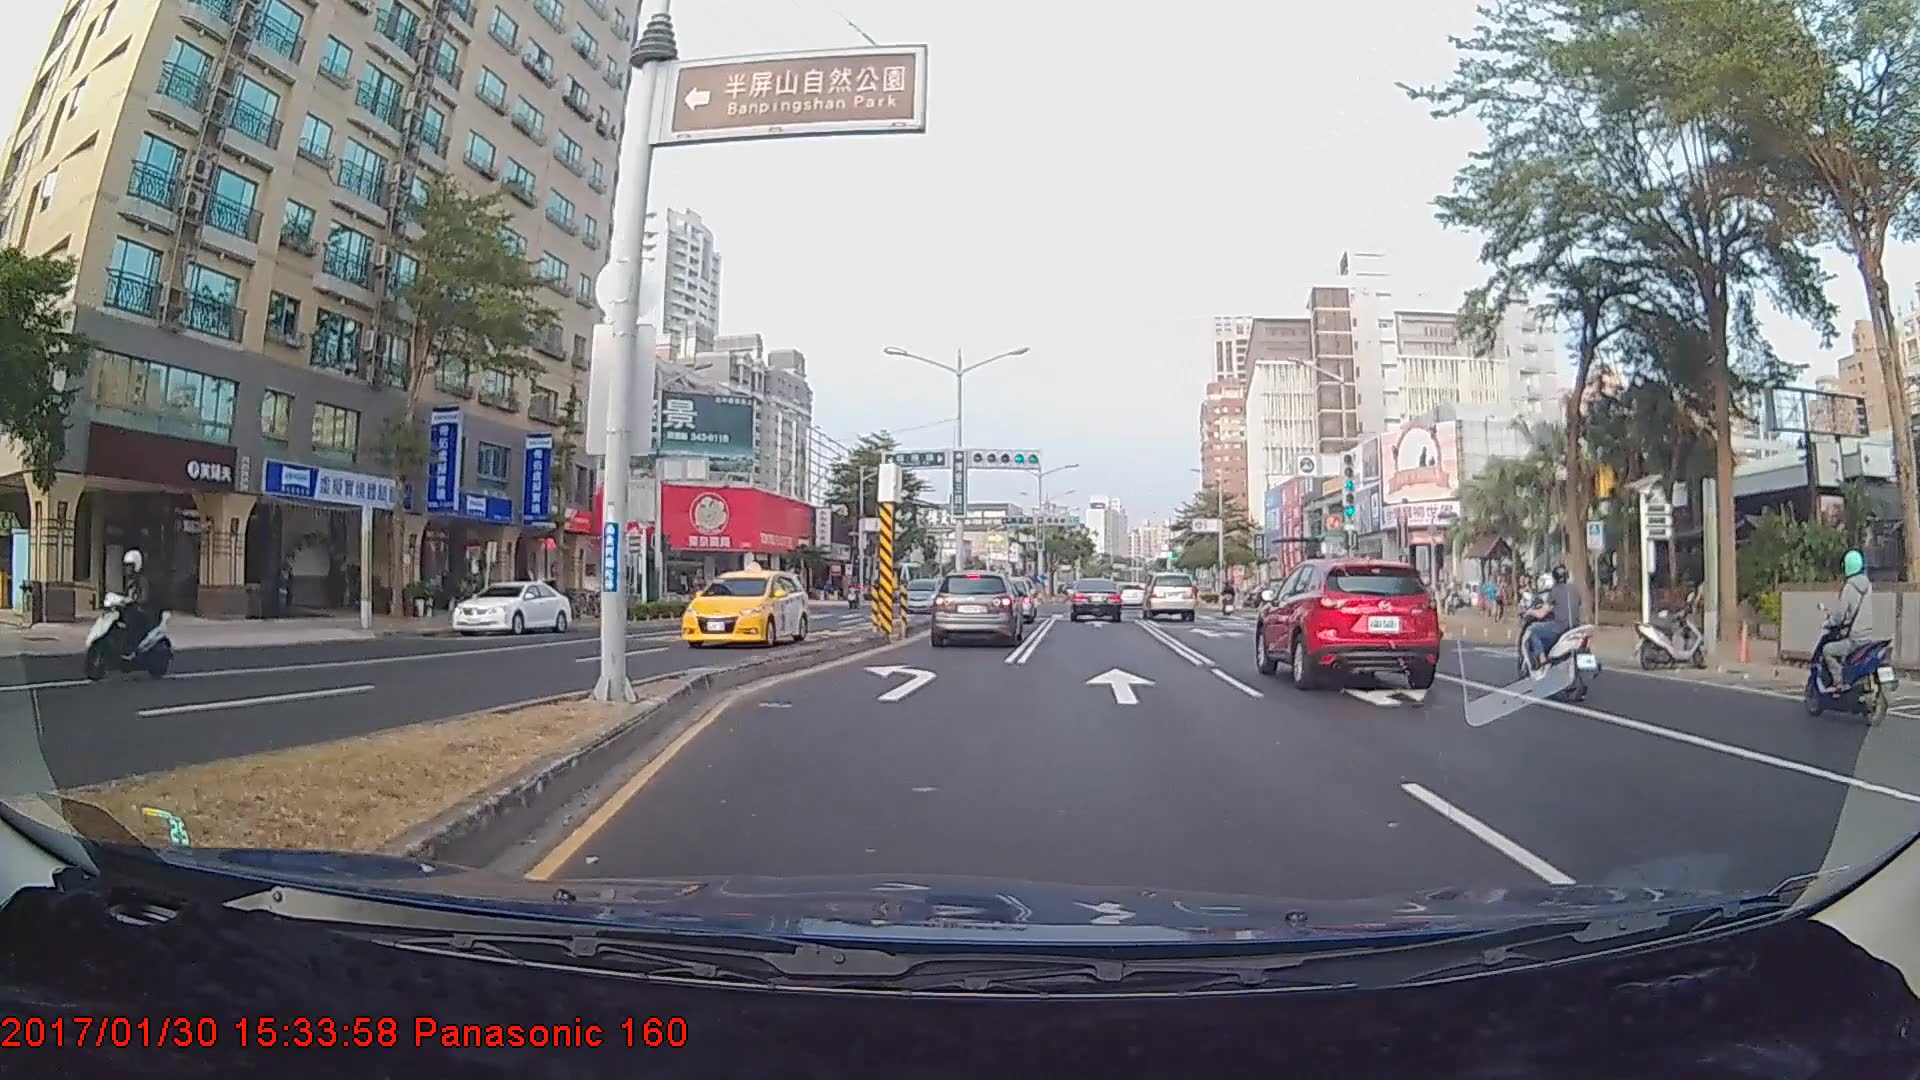rider: (1800, 549, 1904, 734), (81, 551, 179, 687), (1513, 563, 1605, 705)
vehicle: (1256, 554, 1439, 687), (684, 566, 811, 650), (928, 569, 1022, 648), (454, 581, 571, 639), (1142, 571, 1197, 622), (1068, 577, 1121, 622), (899, 579, 943, 614)
